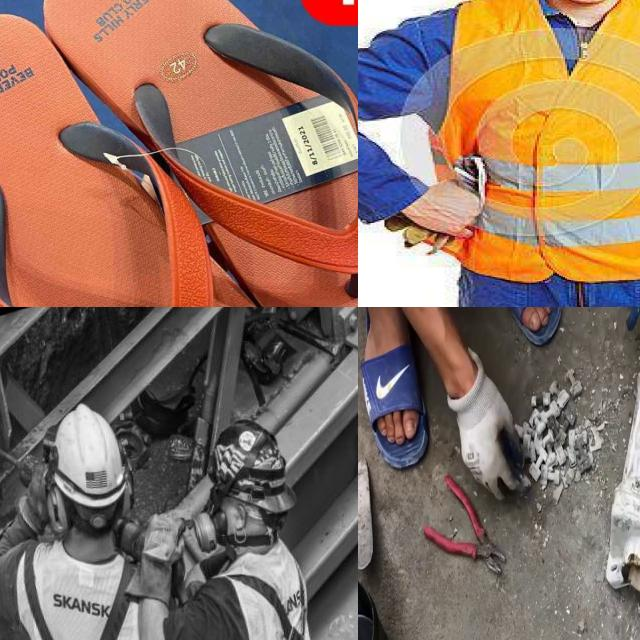Harness: (234, 575, 305, 640)
Sandals: (0, 0, 358, 307), (358, 307, 428, 467)
hand_glove: (444, 348, 534, 505)
hand_noglove: (386, 159, 509, 251)
person: (382, 0, 640, 307)
vest: (432, 0, 640, 267)
